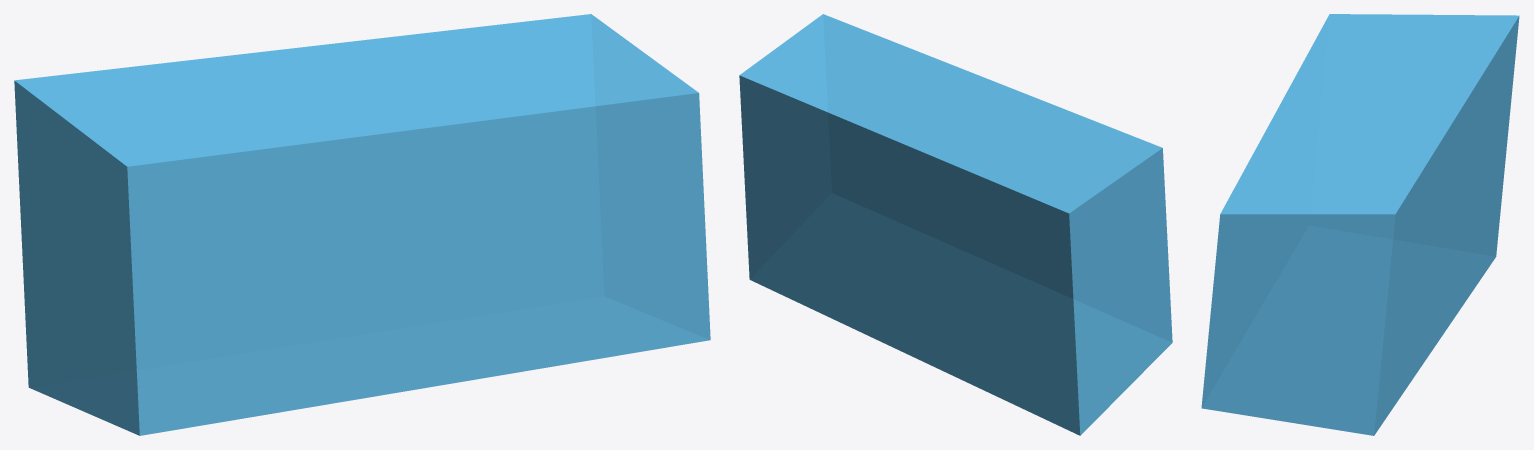
Rendered from Event_421364160_HErechit_38.fbx.
The picture shows the model from 3 angles, left to right: view 1: azimuth 30°, elevation 25°; view 2: azimuth 150°, elevation 25°; view 3: azimuth 270°, elevation 25°; orthographic projection. The views are drawn at different scales.
Visible parts, largest first — view 1: Model; view 2: Model; view 3: Model.
Part boxes in pixels (x1=…): Model: x1=14, y1=14, x2=710, y2=435; Model: x1=739, y1=14, x2=1172, y2=435; Model: x1=1201, y1=14, x2=1519, y2=435.
Size of the model in its own units: 0.9822 by 0.552 by 0.6594.
